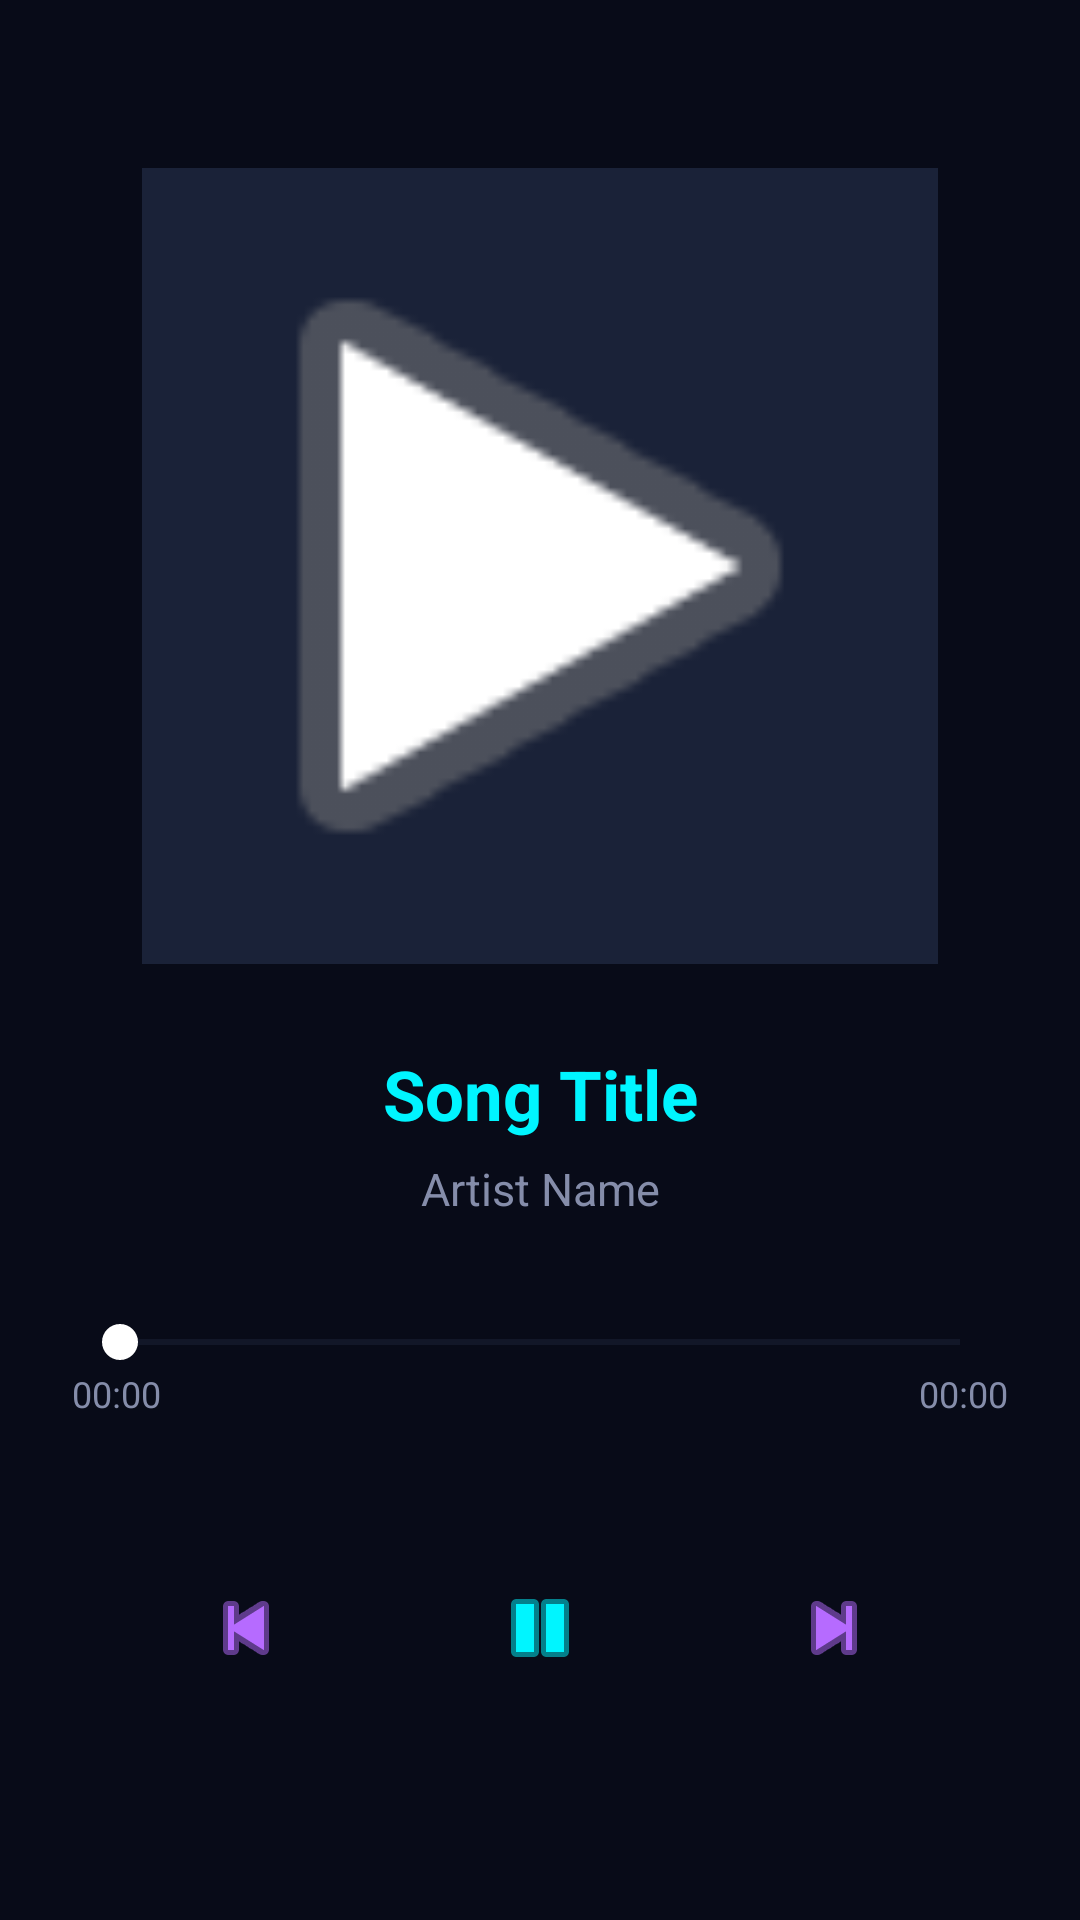

Icon bounding boxes for this 1080*1920 phone screenshot, format bbox=(x1, y1, x2, y2):
Next song: bbox=(811, 1601, 857, 1655)
Play or pause: bbox=(511, 1599, 569, 1657)
Previous song: bbox=(223, 1601, 269, 1655)
